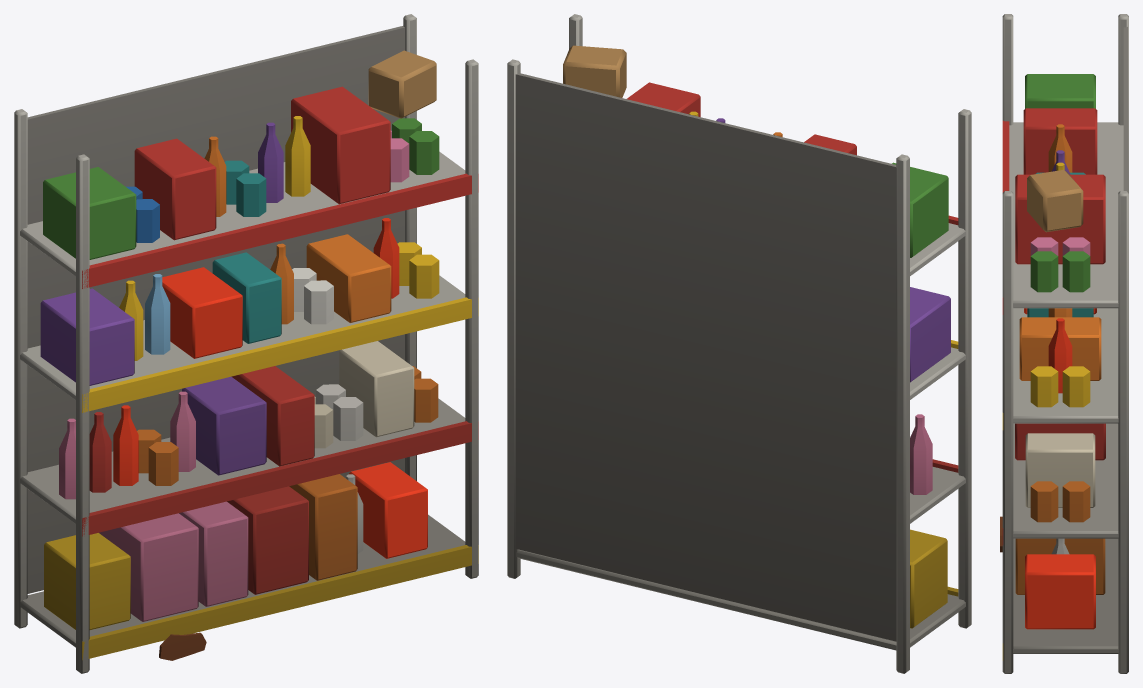
The model's file is 49a_etagere_metal_4.fbx.
3 views of the same model, side by side, from view 1: azimuth 30°, elevation 25°; view 2: azimuth 150°, elevation 25°; view 3: azimuth 270°, elevation 25° (orthographic). The views are drawn at different scales.
Visible parts, largest first — view 1: Etagere; view 2: Etagere; view 3: Etagere.
Boxes of the visible parts, box(x1,y1,x2,y2) form: Etagere: box(14, 14, 478, 673); Etagere: box(507, 14, 971, 673); Etagere: box(1000, 14, 1128, 673).
Size of the model in its own units: 1.12 by 1.4 by 0.336.
1 material, 1 textured.
